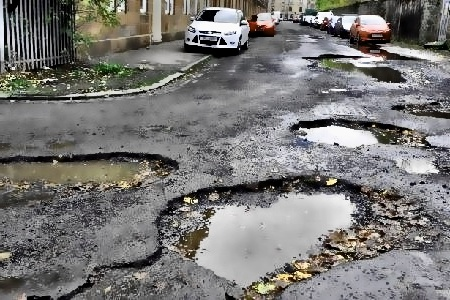pothole: (149, 171, 432, 299), (1, 149, 181, 194), (289, 116, 437, 152), (303, 52, 365, 72), (392, 100, 450, 121), (362, 62, 409, 86)
